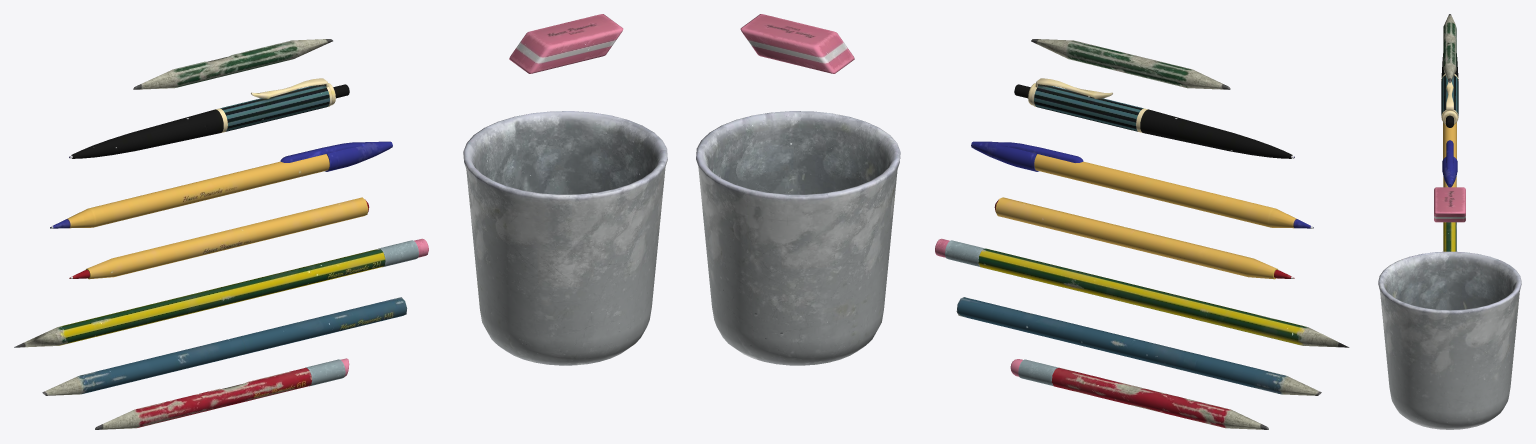
The model's file is stationery.glb.
3 renders of one model, left to right at view 1: azimuth 30°, elevation 25°; view 2: azimuth 150°, elevation 25°; view 3: azimuth 270°, elevation 25°, orthographic. The views are drawn at different scales.
Parts seen in each view (by area): view 1: stationery_supplies_pencilcup, stationery_supplies_pencil_new_a, stationery_supplies_pencil_new_b, stationery_supplies_pen_blue, stationery_supplies_pen_fancy, stationery_supplies_pen_red, stationery_supplies_pencil_used, stationery_supplies_eraser, stationery_supplies_pencil_old; view 2: stationery_supplies_pencilcup, stationery_supplies_pencil_new_a, stationery_supplies_pencil_new_b, stationery_supplies_pen_blue, stationery_supplies_pen_fancy, stationery_supplies_pen_red, stationery_supplies_pencil_used, stationery_supplies_eraser, stationery_supplies_pencil_old; view 3: stationery_supplies_pencilcup, stationery_supplies_eraser, stationery_supplies_pen_fancy, stationery_supplies_pen_blue, stationery_supplies_pencil_old, stationery_supplies_pencil_new_a.
Part boxes in pixels (box(x1,y1,x2,y2)): stationery_supplies_pencilcup: box(463, 111, 667, 365); stationery_supplies_pencil_new_a: box(14, 238, 428, 347); stationery_supplies_pencil_new_b: box(42, 297, 407, 395); stationery_supplies_pen_blue: box(50, 141, 392, 228); stationery_supplies_pen_fancy: box(69, 78, 349, 158); stationery_supplies_pen_red: box(69, 197, 369, 279); stationery_supplies_pencil_used: box(95, 358, 349, 429); stationery_supplies_eraser: box(509, 14, 623, 73); stationery_supplies_pencil_old: box(133, 39, 332, 89); stationery_supplies_pencilcup: box(696, 111, 900, 365); stationery_supplies_pencil_new_a: box(935, 238, 1349, 347); stationery_supplies_pencil_new_b: box(956, 297, 1321, 395); stationery_supplies_pen_blue: box(971, 141, 1313, 228); stationery_supplies_pen_fancy: box(1014, 78, 1294, 158); stationery_supplies_pen_red: box(994, 197, 1294, 279); stationery_supplies_pencil_used: box(1010, 359, 1268, 429); stationery_supplies_eraser: box(740, 14, 854, 73); stationery_supplies_pencil_old: box(1031, 39, 1230, 89); stationery_supplies_pencilcup: box(1378, 251, 1521, 429); stationery_supplies_eraser: box(1434, 187, 1465, 222); stationery_supplies_pen_fancy: box(1441, 53, 1458, 127); stationery_supplies_pen_blue: box(1442, 122, 1457, 187); stationery_supplies_pencil_old: box(1443, 14, 1456, 82); stationery_supplies_pencil_new_a: box(1443, 222, 1456, 251).
Bounding box in the file's own units: 0.3019 × 0.1643 × 0.0837.
Materials: 1 (1 with a texture image).
